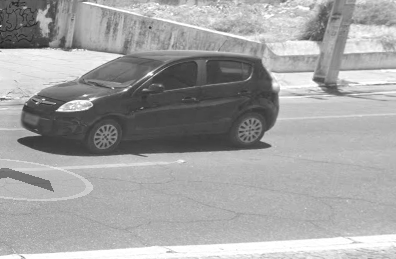car: (17, 34, 281, 154)
